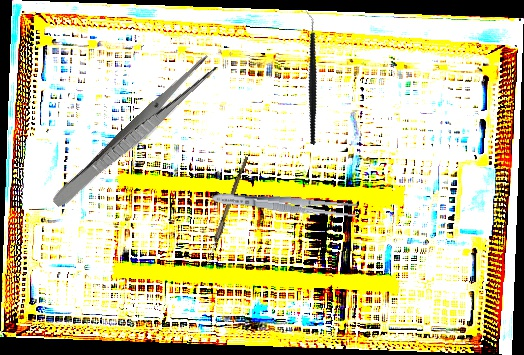Chopper: (262, 9, 358, 146)
Dressing Forceps: (49, 52, 221, 215), (211, 188, 359, 220)
Surgical Spoon: (203, 155, 249, 271)
